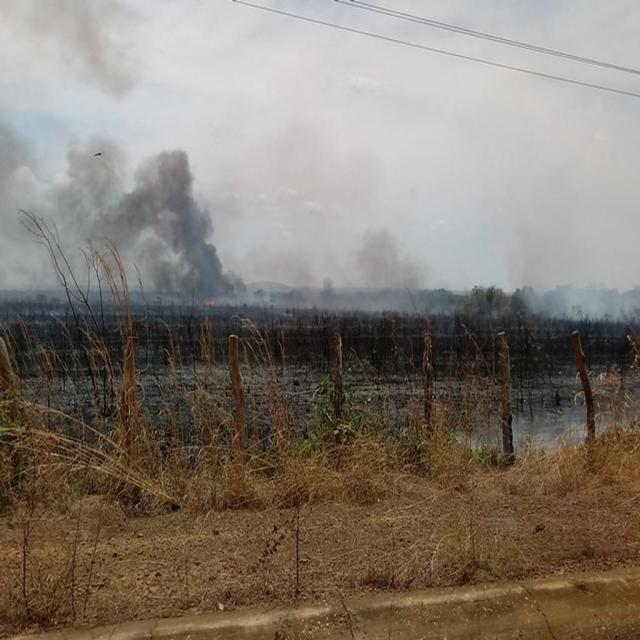Smoke: (34, 146, 250, 296), (352, 221, 625, 331)
